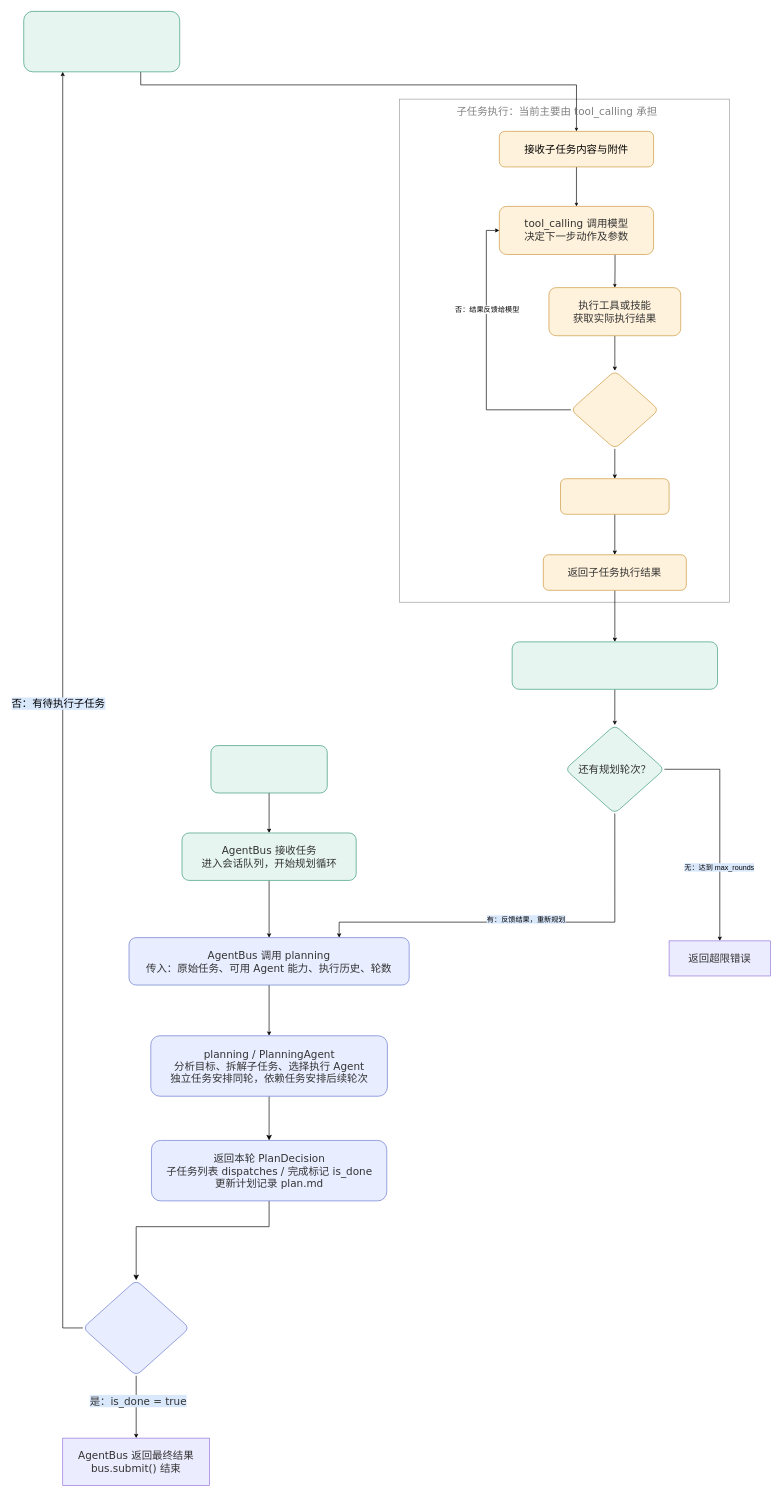
Some shapes in this 782 by 1497 pixel diagram are drawn without their labels. The shapes that lost their labels are listed below. From the top down, each one's box as (x1, y1, x2, y2) in pixels, then its label:
(23, 11, 180, 72): AgentBus 校验目标 Agent 通过 ACP 分派各子任务 同轮任务并发执行
(570, 370, 659, 449): 子任务是否完成？
(560, 478, 669, 514): 是：调用 done
(511, 641, 718, 689): AgentBus 等待本轮全部子任务结束 收集成功结果或错误，更新执行历史
(210, 745, 327, 793): 提交原始任务 bus.submit(task)
(82, 1280, 189, 1376): 整个任务是否完成？
